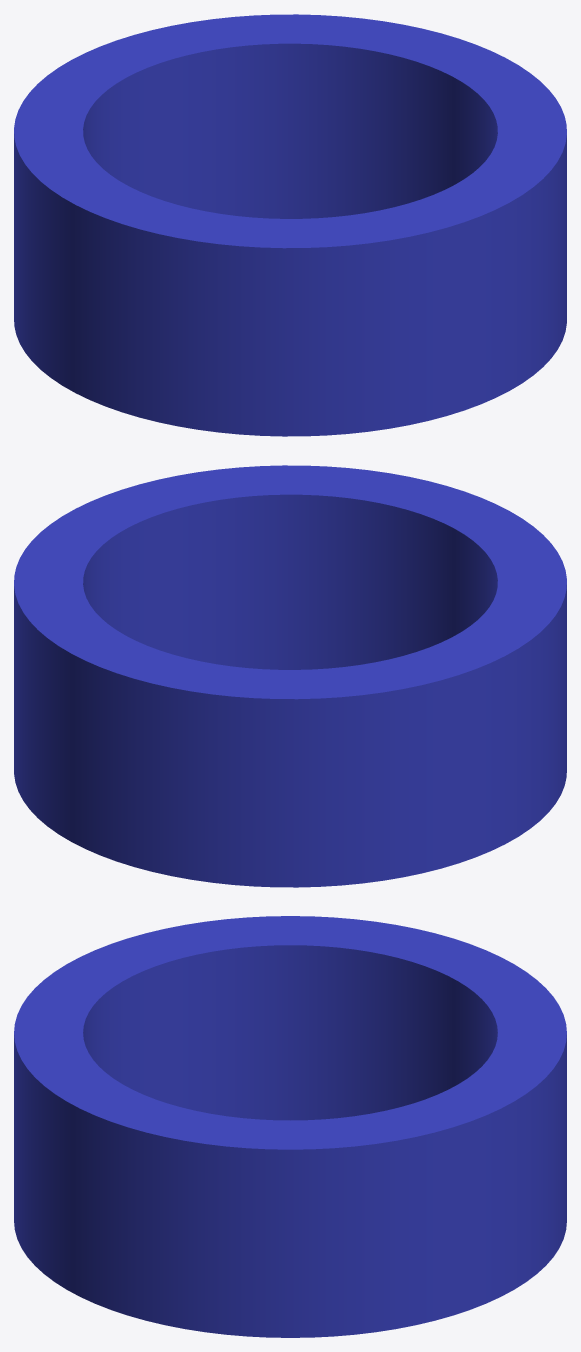
File: cylinder_room.fbx
3 views of the same model, one above another, from view 1: azimuth 30°, elevation 25°; view 2: azimuth 150°, elevation 25°; view 3: azimuth 270°, elevation 25° (orthographic).
Parts seen in each view (by area): view 1: root; view 2: root; view 3: root.
Boxes of the visible parts, left/top/right/bottom form: root: left=14, top=14, right=566, bottom=436; root: left=14, top=465, right=566, bottom=887; root: left=14, top=916, right=566, bottom=1337.
Bounding box in the file's own units: 0.3847 × 0.1507 × 0.3847.
